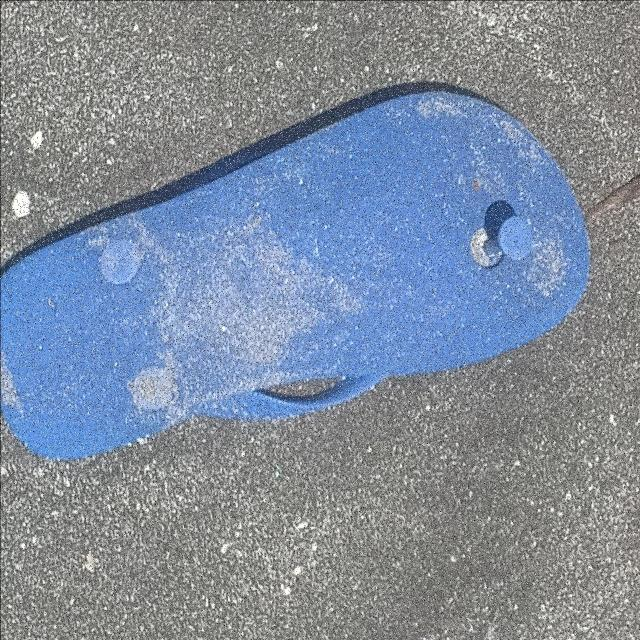rubber_waste: (1, 85, 595, 463)
